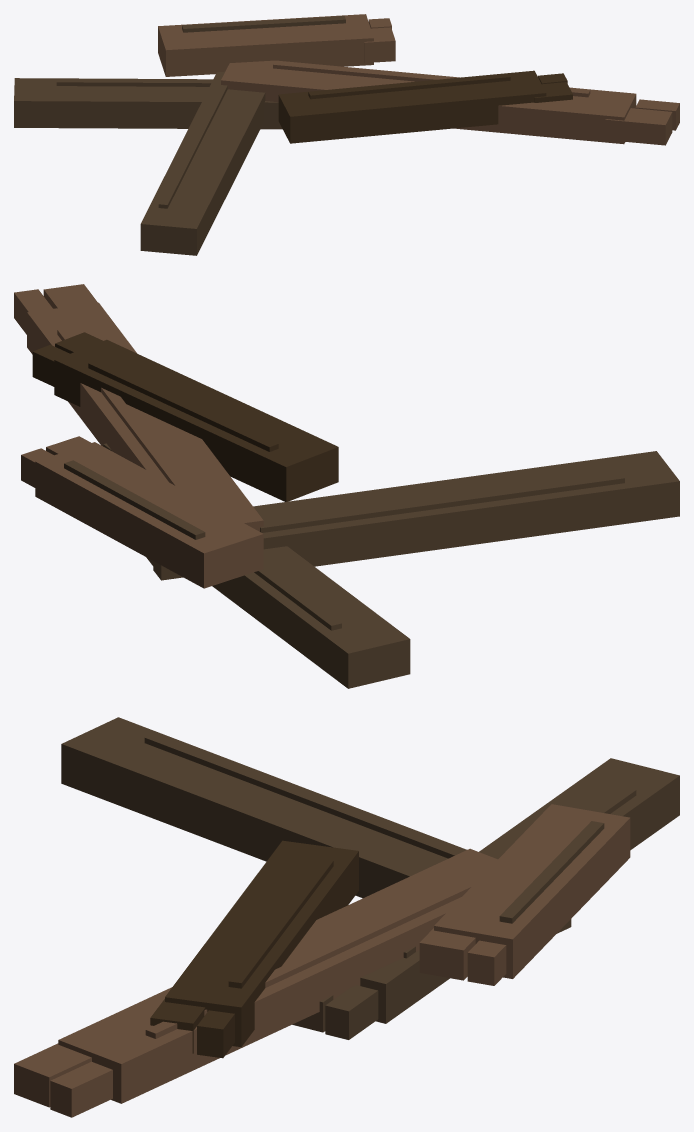
File: CMU3DDecorFloorScrapwoodSouthWest.glb
3 views of the same model, one above another, from view 1: azimuth 30°, elevation 25°; view 2: azimuth 150°, elevation 25°; view 3: azimuth 270°, elevation 25° (orthographic). The views are drawn at different scales.
Parts seen in each view (by area): view 1: plank 4 body, plank 2 body, plank 3 body, plank 5 body, plank 1 body, plank 3 splintered end, plank 4 long grain, plank 3 long grain, plank 2 long grain, plank 5 long grain, plank 1 long grain, plank 5 splintered end (+2 smaller); view 2: plank 2 body, plank 5 body, plank 4 body, plank 1 body, plank 3 body, plank 2 long grain, plank 4 long grain, plank 5 long grain, plank 3 long grain, plank 1 long grain, plank 3 splintered end, plank 4 short fracture tooth (+2 smaller); view 3: plank 2 body, plank 3 body, plank 5 body, plank 4 body, plank 1 body, plank 2 long grain, plank 3 long grain, plank 3 short fracture tooth, plank 3 splintered end, plank 4 long grain, plank 1 short fracture tooth, plank 5 splintered end (+5 smaller).
Part boxes in pixels (left/top/right/bottom): plank 4 body: left=278, top=70, right=546, bottom=143; plank 2 body: left=140, top=71, right=265, bottom=255; plank 3 body: left=221, top=60, right=636, bottom=144; plank 5 body: left=158, top=14, right=373, bottom=76; plank 1 body: left=14, top=78, right=282, bottom=129; plank 3 splintered end: left=605, top=108, right=672, bottom=145; plank 4 long grain: left=308, top=73, right=510, bottom=99; plank 3 long grain: left=273, top=61, right=590, bottom=97; plank 2 long grain: left=158, top=83, right=227, bottom=208; plank 5 long grain: left=182, top=16, right=345, bottom=32; plank 1 long grain: left=56, top=78, right=212, bottom=86; plank 5 splintered end: left=364, top=27, right=395, bottom=62; plank 2 body: left=253, top=451, right=679, bottom=566; plank 5 body: left=35, top=442, right=263, bottom=588; plank 4 body: left=54, top=339, right=338, bottom=501; plank 1 body: left=212, top=546, right=410, bottom=688; plank 3 body: left=27, top=302, right=263, bottom=531; plank 2 long grain: left=260, top=473, right=624, bottom=532; plank 4 long grain: left=88, top=360, right=278, bottom=451; plank 5 long grain: left=64, top=460, right=205, bottom=539; plank 3 long grain: left=57, top=328, right=196, bottom=497; plank 1 long grain: left=254, top=565, right=341, bottom=630; plank 3 splintered end: left=43, top=284, right=97, bottom=308; plank 4 short fracture tooth: left=32, top=344, right=69, bottom=386; plank 2 body: left=61, top=717, right=466, bottom=898; plank 3 body: left=58, top=848, right=497, bottom=1103; plank 5 body: left=434, top=804, right=630, bottom=978; plank 4 body: left=165, top=840, right=358, bottom=1047; plank 1 body: left=360, top=758, right=679, bottom=1023; plank 2 long grain: left=144, top=733, right=463, bottom=858; plank 3 long grain: left=145, top=880, right=474, bottom=1038; plank 3 short fracture tooth: left=50, top=1061, right=112, bottom=1117; plank 3 splintered end: left=14, top=1043, right=91, bottom=1107; plank 4 long grain: left=228, top=859, right=333, bottom=988; plank 1 short fracture tooth: left=325, top=985, right=378, bottom=1039; plank 5 splintered end: left=419, top=928, right=475, bottom=980.
Size of the model in its own units: 0.5919 by 0.069 by 0.44.
